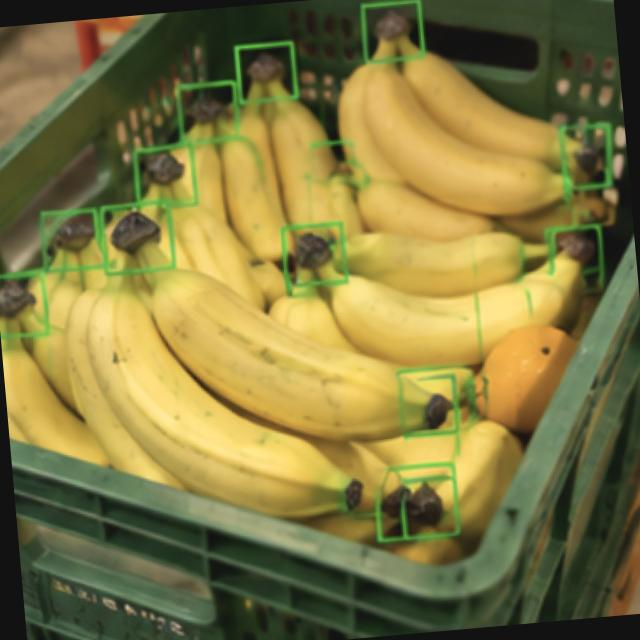Fruit-Stem-Detection: (275, 196, 360, 324), (35, 183, 122, 295), (64, 197, 152, 284), (112, 142, 183, 233), (238, 39, 290, 122), (367, 0, 424, 75), (182, 88, 232, 162)
